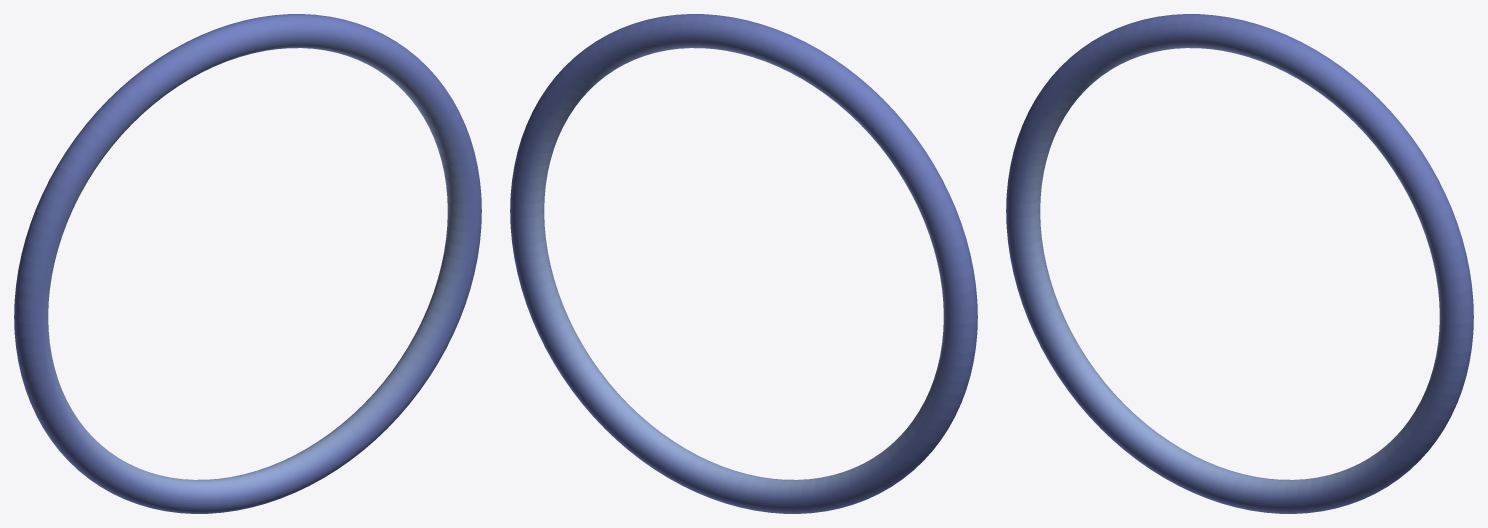
3 views of the same model, side by side, from view 1: azimuth 30°, elevation 25°; view 2: azimuth 150°, elevation 25°; view 3: azimuth 330°, elevation 25° (orthographic).
Parts seen in each view (by area): view 1: world; view 2: world; view 3: world.
Part boxes in pixels (bbox=[...]): world: bbox=[14, 14, 481, 513]; world: bbox=[510, 14, 977, 513]; world: bbox=[1006, 14, 1473, 513].
Bounding box in the file's own units: 31.33 × 31.33 × 2.
